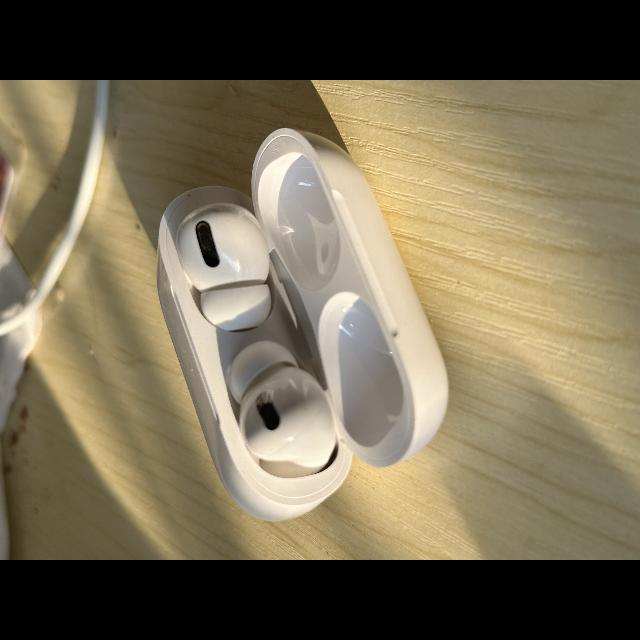AirPods Pro: (157, 127, 449, 521)
